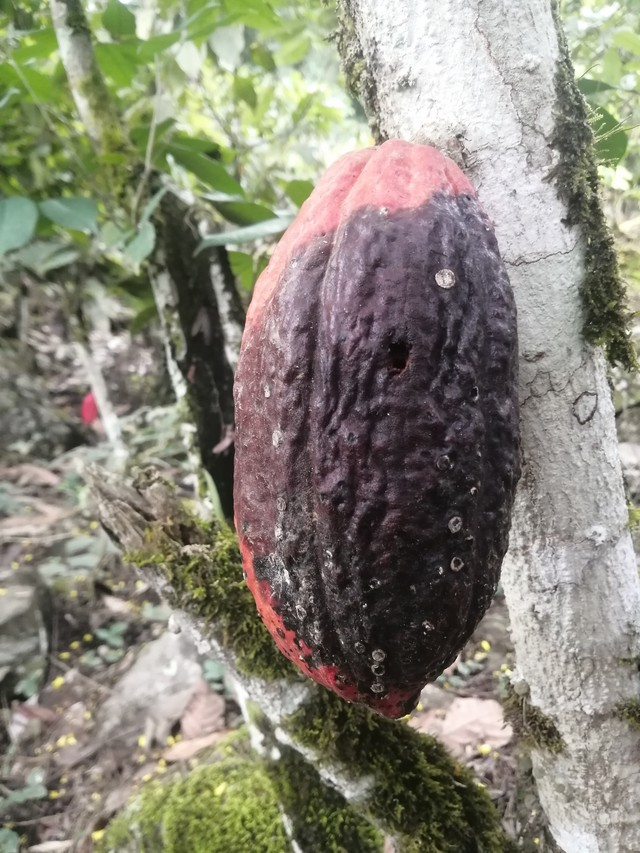carmenta foraseminis: (229, 129, 525, 730)
